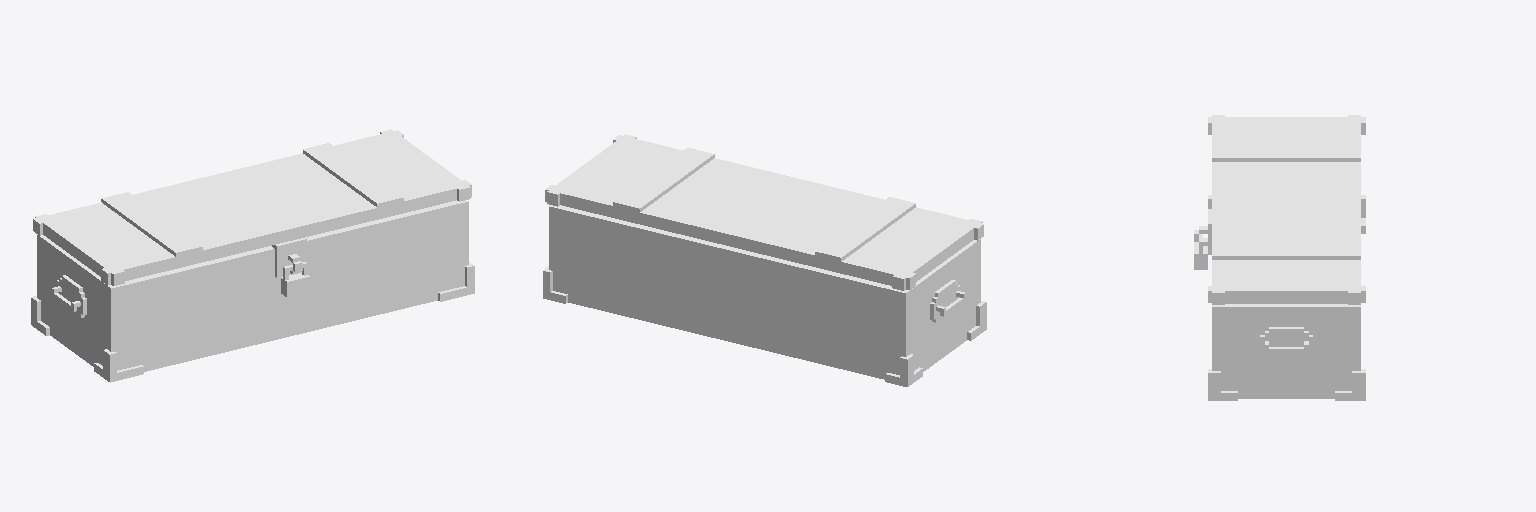
File: WeaponCrate1.obj
3 renders of one model, left to right at view 1: azimuth 30°, elevation 25°; view 2: azimuth 150°, elevation 25°; view 3: azimuth 270°, elevation 25°, orthographic.
Bounding box in the file's own units: 100 × 28 × 39.